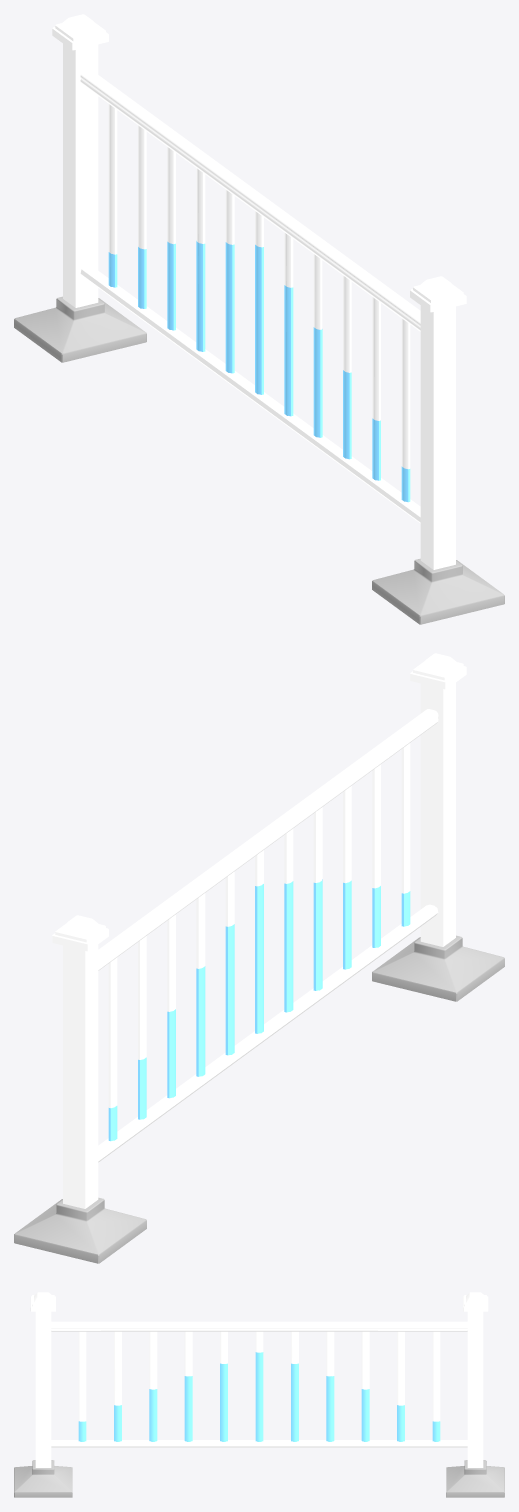
The model's file is Guardrail.glb.
3 renders of one model, top to bottom at view 1: azimuth 30°, elevation 25°; view 2: azimuth 150°, elevation 25°; view 3: azimuth 270°, elevation 25°, orthographic. The views are drawn at different scales.
Visible parts, largest first — view 1: 护栏; view 2: 护栏; view 3: 护栏.
Boxes of the visible parts, x1=… form: 护栏: x1=14, y1=14, x2=504, y2=624; 护栏: x1=14, y1=653, x2=504, y2=1263; 护栏: x1=14, y1=1292, x2=504, y2=1497.
Size of the model in its own units: 0.3399 by 1.2 by 2.8.
